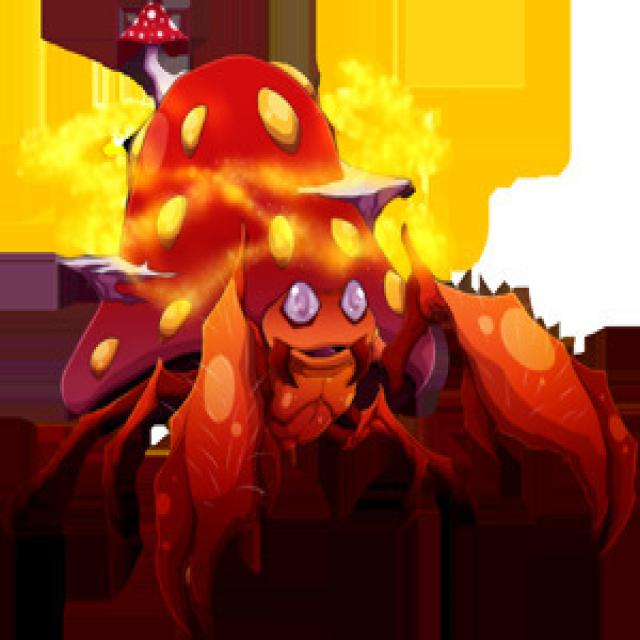Parasect: (107, 54, 509, 502)
